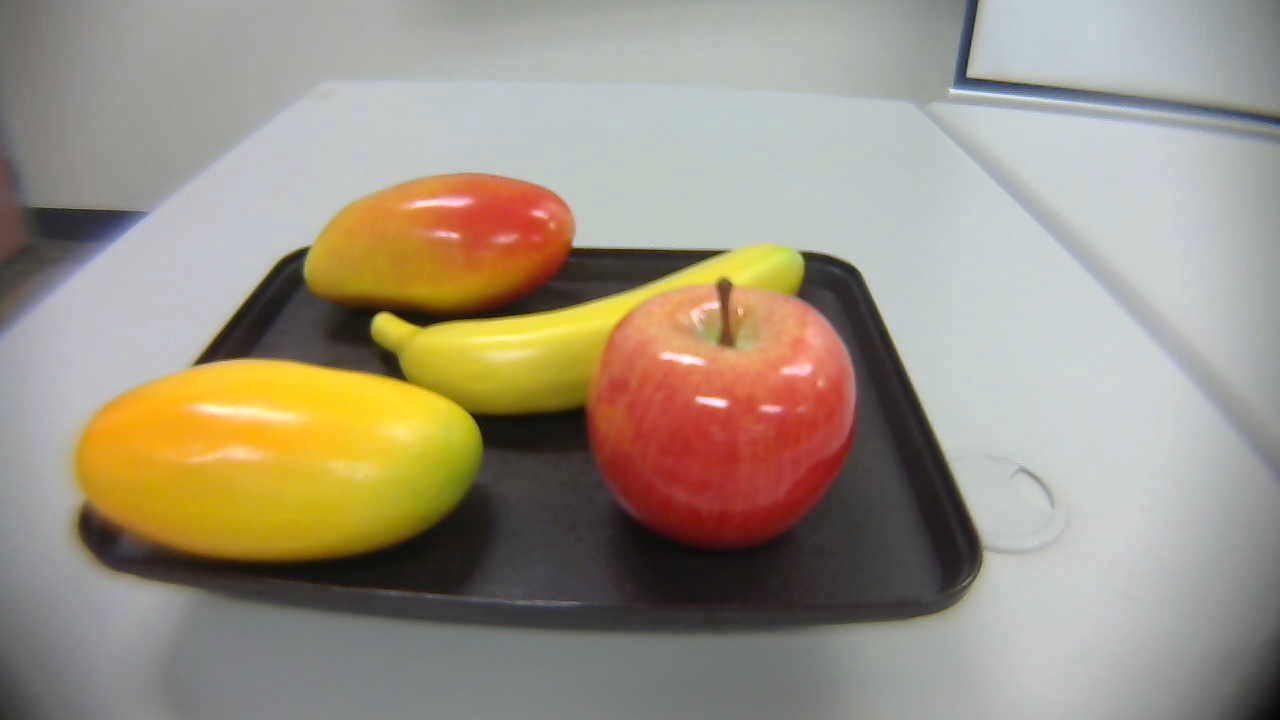banana: (355, 238, 827, 418)
red apple: (592, 276, 860, 551)
red mango: (297, 159, 588, 328)
yellow mango: (75, 353, 495, 558)
